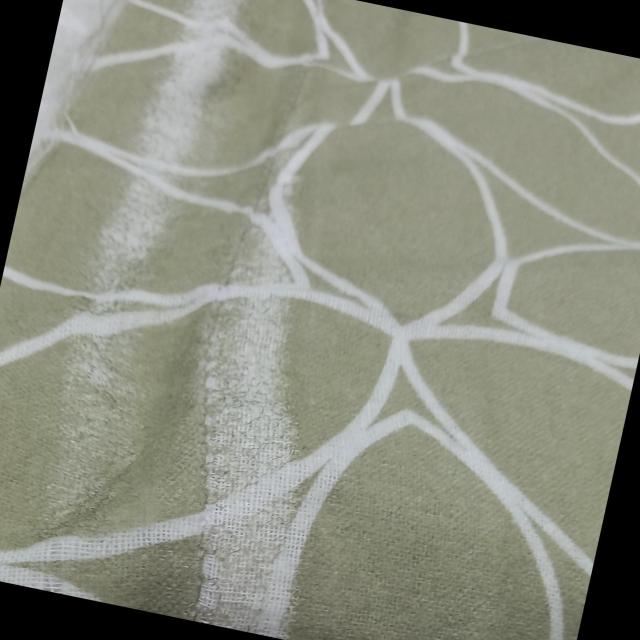selvet: (149, 81, 400, 640), (44, 0, 248, 570), (21, 0, 128, 201)
